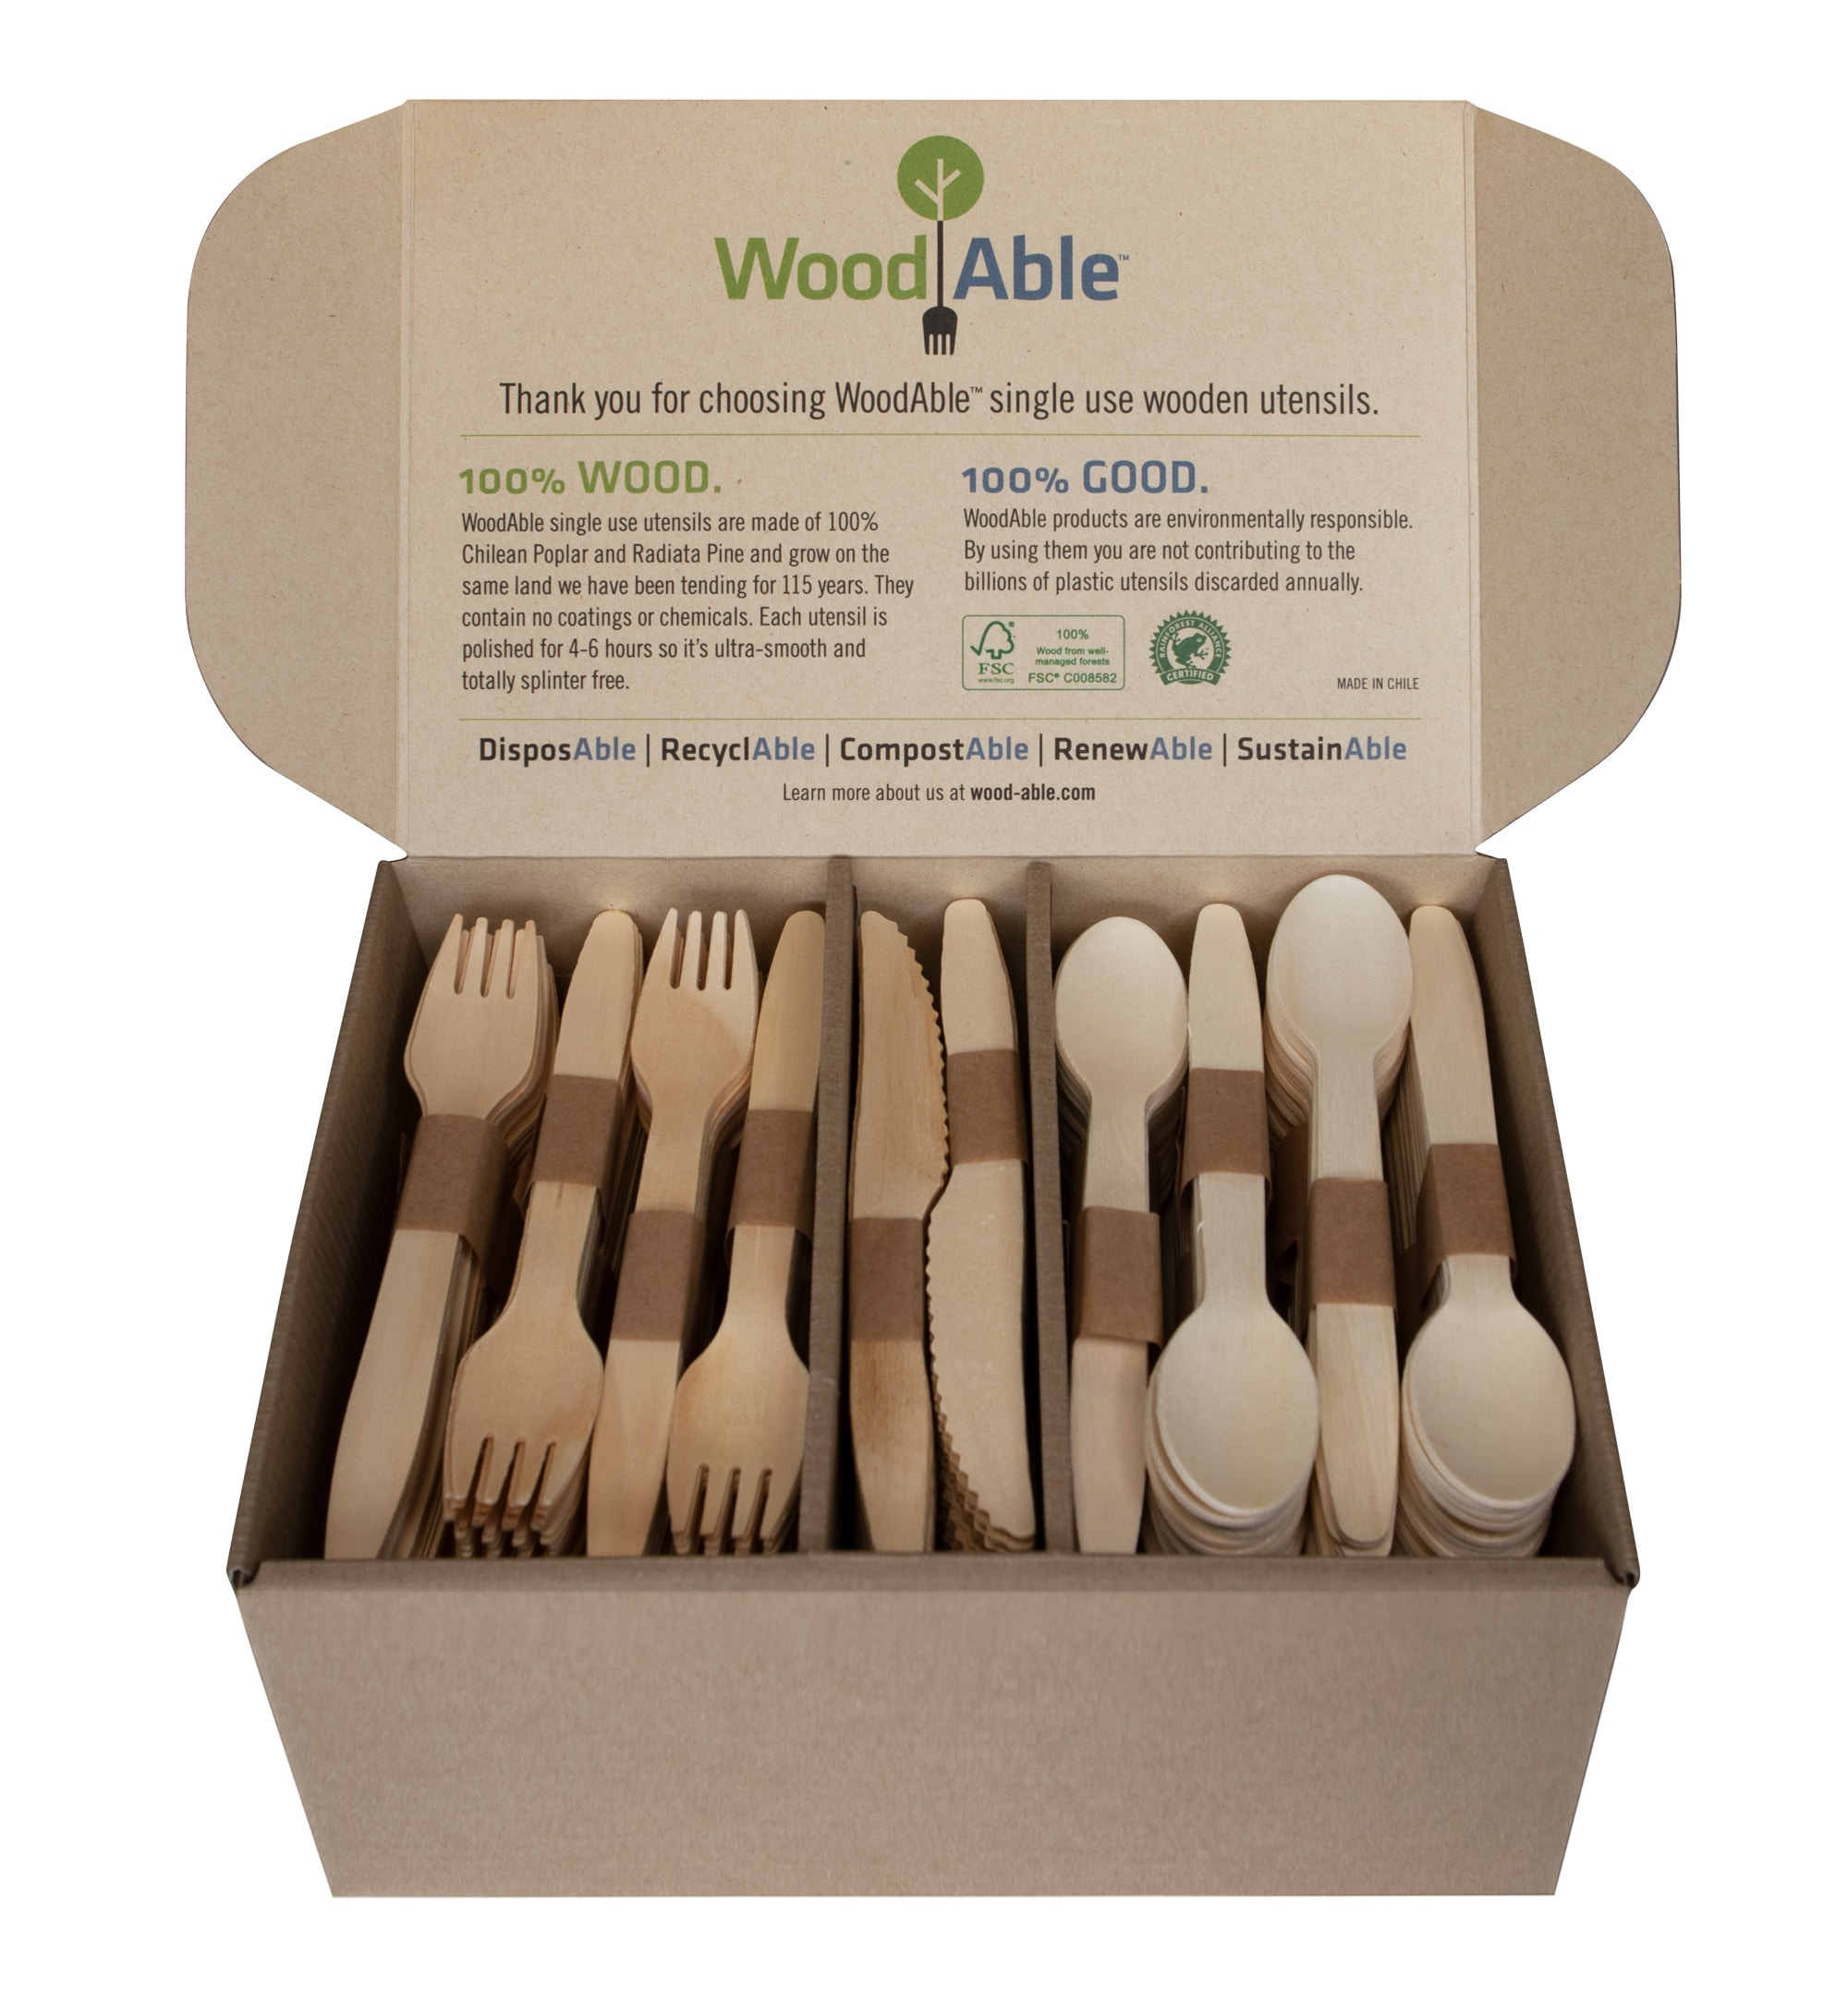Wooden Utensils: (382, 887, 1457, 1567)
